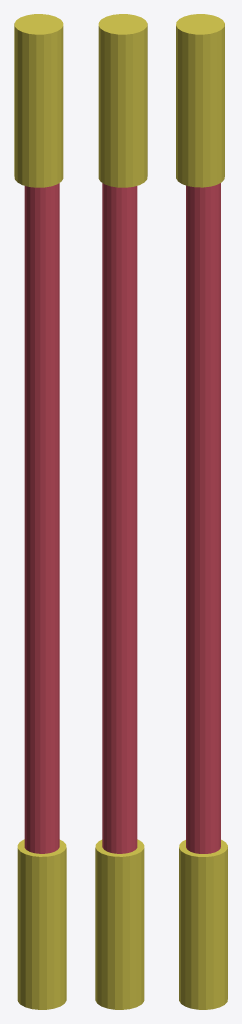
Rendered from asset3.glb.
3 renders of one model, left to right at view 1: azimuth 30°, elevation 25°; view 2: azimuth 150°, elevation 25°; view 3: azimuth 330°, elevation 25°, orthographic.
Visible parts, largest first — view 1: Mesh_Mesh_head_geo.001_lambert2SG.001; view 2: Mesh_Mesh_head_geo.001_lambert2SG.001; view 3: Mesh_Mesh_head_geo.001_lambert2SG.001.
Boxes of the visible parts, bbox=[...] form: Mesh_Mesh_head_geo.001_lambert2SG.001: bbox=[14, 14, 66, 1009]; Mesh_Mesh_head_geo.001_lambert2SG.001: bbox=[95, 14, 147, 1009]; Mesh_Mesh_head_geo.001_lambert2SG.001: bbox=[176, 14, 227, 1009].
Bounding box in the file's own units: 7.5 × 153 × 7.
